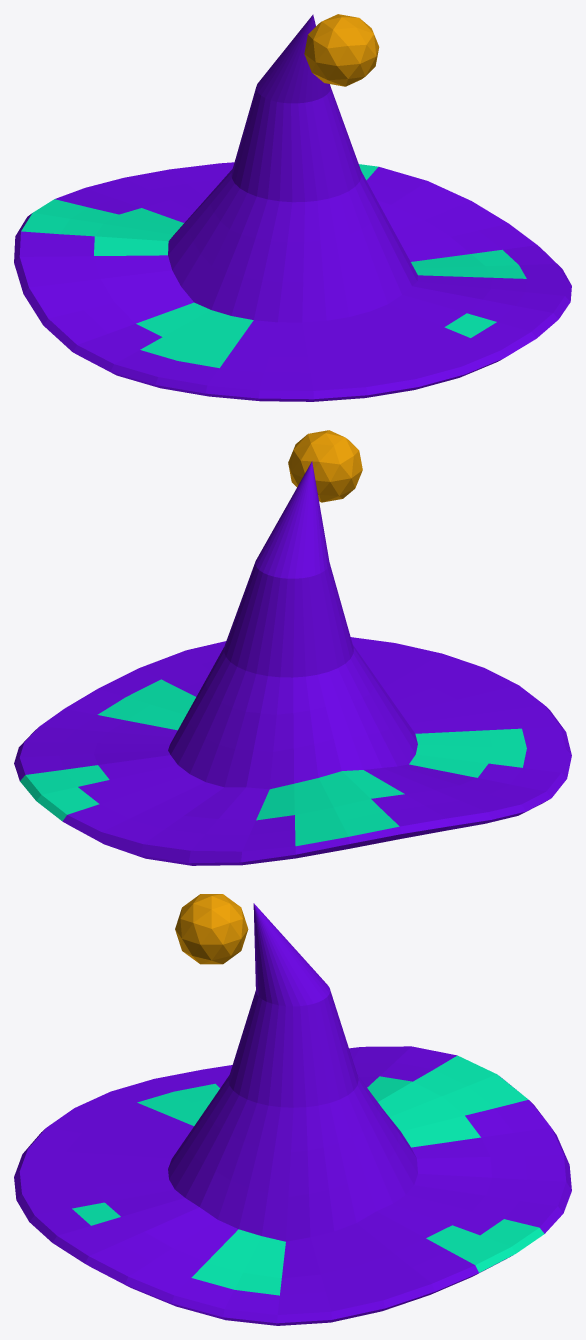
Rendered from MagicHat.fbx.
3 views of the same model, one above another, from view 1: azimuth 30°, elevation 25°; view 2: azimuth 150°, elevation 25°; view 3: azimuth 270°, elevation 25° (orthographic).
Parts seen in each view (by area): view 1: 圆环, 棱角球; view 2: 圆环, 棱角球; view 3: 圆环, 棱角球.
Part boxes in pixels (box(x1,y1,x2,y2)): 圆环: box(14, 14, 571, 401); 棱角球: box(304, 14, 379, 86); 圆环: box(14, 461, 571, 865); 棱角球: box(288, 430, 362, 502); 圆环: box(14, 903, 571, 1325); 棱角球: box(175, 894, 248, 964).
Size of the model in its own units: 77.64 by 77.63 by 49.14.
